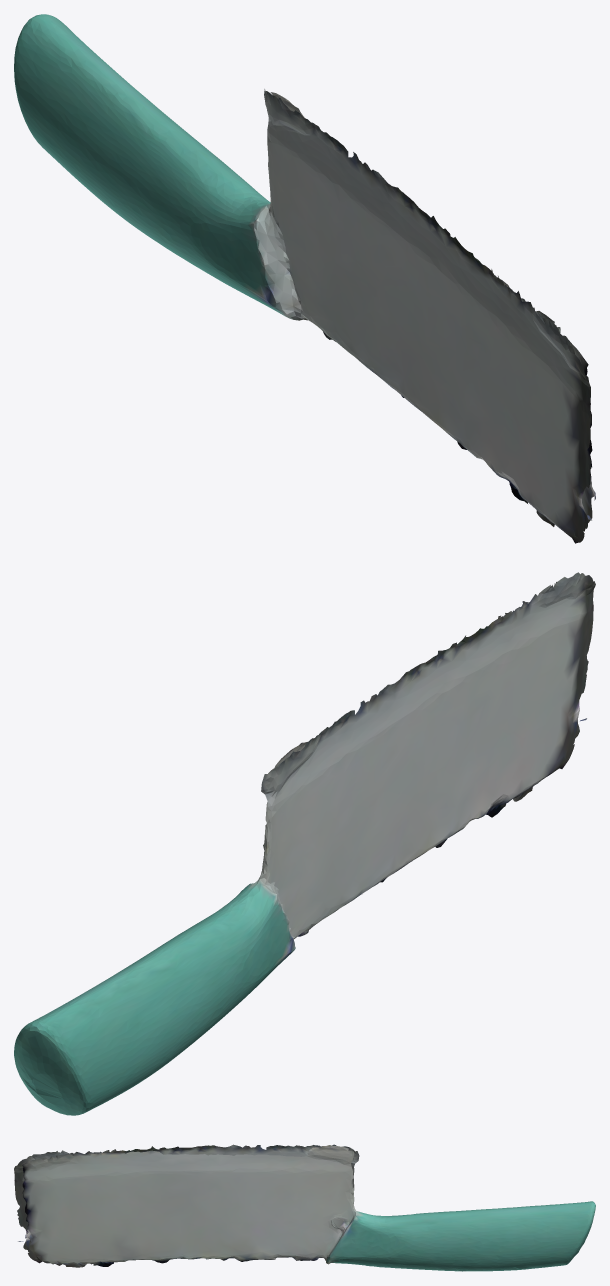
Rendered from scan.obj.
3 views of the same model, one above another, from view 1: azimuth 30°, elevation 25°; view 2: azimuth 150°, elevation 25°; view 3: azimuth 270°, elevation 25° (orthographic). The views are drawn at different scales.
Parts seen in each view (by area): view 1: scan.ply; view 2: scan.ply; view 3: scan.ply.
Part boxes in pixels (left/top/right/bottom): scan.ply: left=14, top=14, right=595, bottom=543; scan.ply: left=14, top=572, right=595, bottom=1115; scan.ply: left=14, top=1144, right=595, bottom=1271.
Size of the model in its own units: 0.0214 by 0.0656 by 0.2862.
